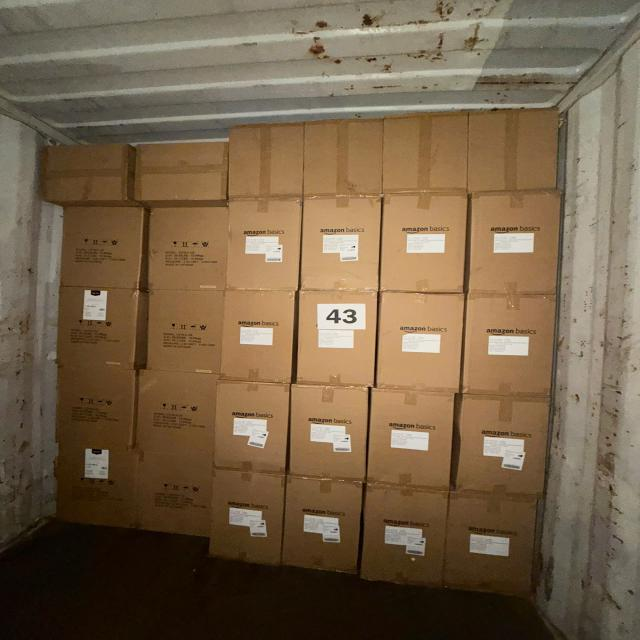Carton: (444, 491, 542, 601), (468, 190, 561, 298), (461, 295, 557, 399), (455, 390, 550, 494), (376, 291, 466, 393), (363, 486, 449, 592), (381, 192, 467, 296), (368, 387, 454, 489), (298, 290, 382, 387), (51, 446, 146, 531), (283, 474, 361, 576), (290, 384, 370, 482), (468, 108, 561, 191), (304, 196, 383, 291), (137, 372, 220, 462), (211, 468, 284, 567), (216, 379, 291, 475), (384, 110, 469, 192), (55, 364, 136, 448), (61, 206, 140, 292), (222, 288, 294, 382), (58, 285, 139, 368), (227, 198, 299, 291), (33, 141, 134, 206), (152, 209, 230, 293), (148, 292, 224, 377), (145, 449, 215, 540), (305, 118, 383, 198), (230, 119, 305, 198), (137, 137, 226, 202)
